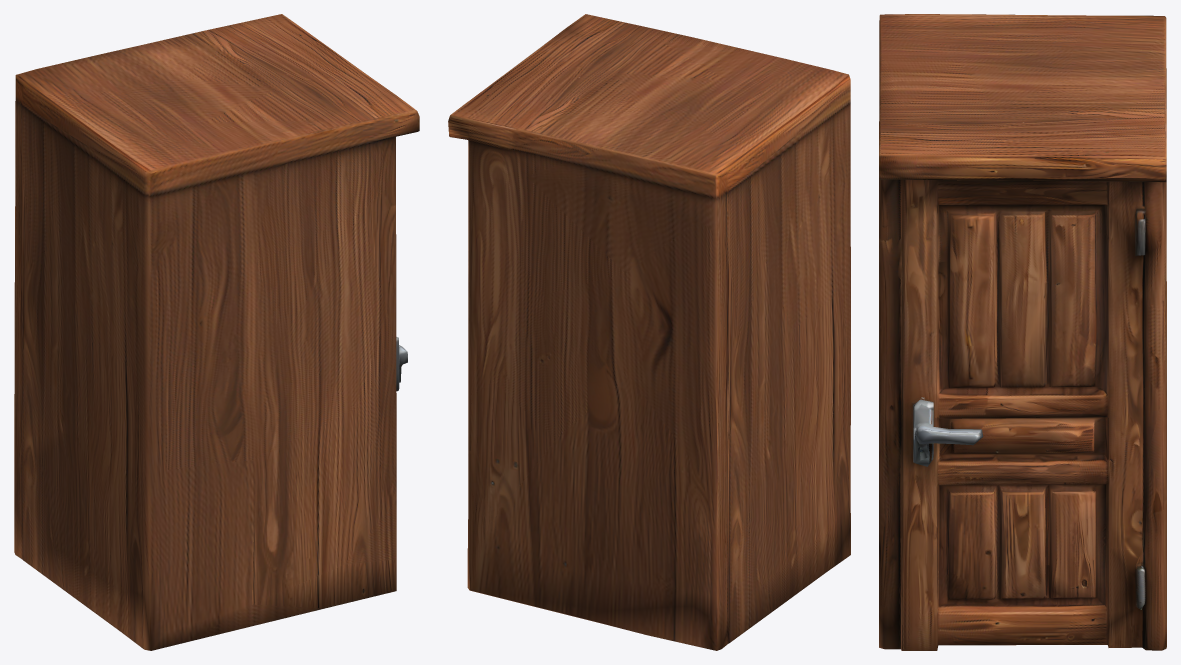
File: сельський+толчок.fbx
3 views of the same model, side by side, from view 1: azimuth 30°, elevation 25°; view 2: azimuth 150°, elevation 25°; view 3: azimuth 270°, elevation 25° (orthographic). The views are drawn at different scales.
Parts seen in each view (by area): view 1: meshes[0]; view 2: meshes[0]; view 3: meshes[0].
Part boxes in pixels (bbox=[...]): meshes[0]: bbox=[14, 14, 419, 650]; meshes[0]: bbox=[448, 14, 850, 650]; meshes[0]: bbox=[879, 14, 1166, 650].
Size of the model in its own units: 0.6079 by 1 by 0.5121.
Materials: 1 (1 with a texture image).
